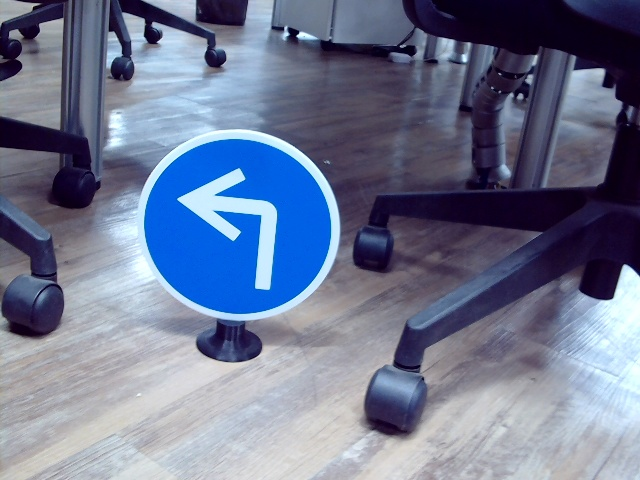turn_left: (179, 160, 289, 292)
